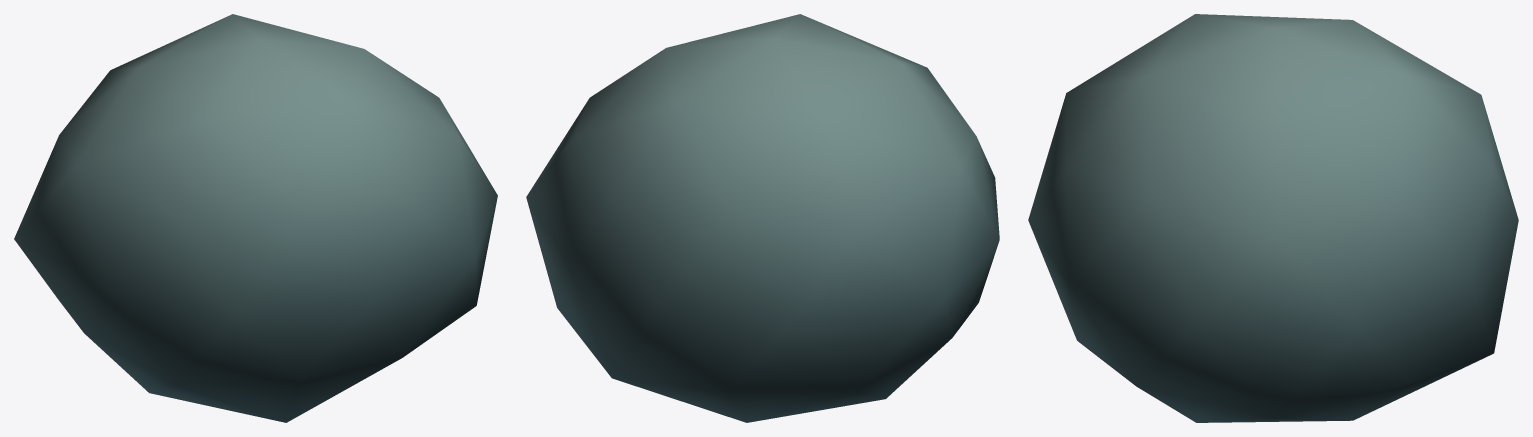
Rendered from shrub_l.glb.
3 renders of one model, left to right at view 1: azimuth 30°, elevation 25°; view 2: azimuth 150°, elevation 25°; view 3: azimuth 270°, elevation 25°, orthographic. The views are drawn at different scales.
Parts seen in each view (by area): view 1: ShrubL; view 2: ShrubL; view 3: ShrubL.
Part boxes in pixels (box(x1,y1,x2,y2)): ShrubL: box(14, 14, 497, 422); ShrubL: box(526, 14, 999, 422); ShrubL: box(1028, 14, 1518, 422).
Size of the model in its own units: 2.01 by 1.64 by 1.92.
